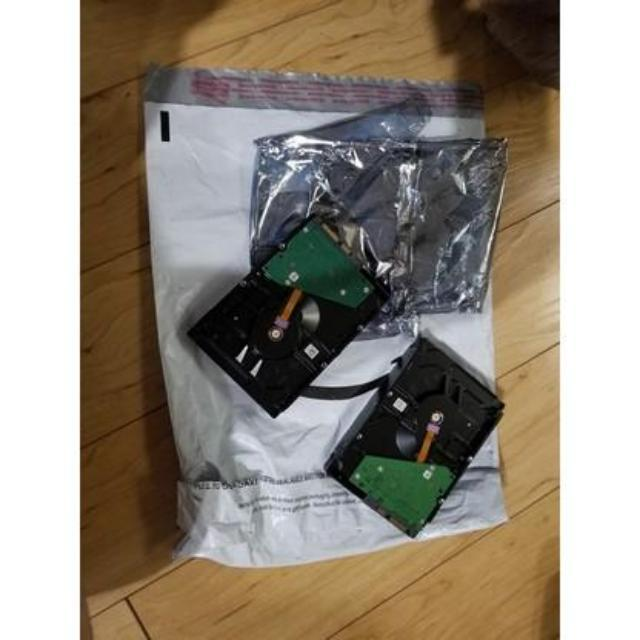DISK: (190, 213, 390, 416), (327, 340, 505, 540)
